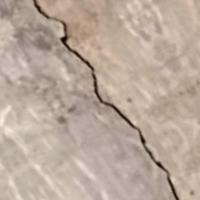crack: (24, 0, 182, 199)
